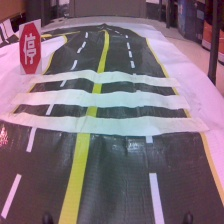stop: (18, 18, 44, 78)
